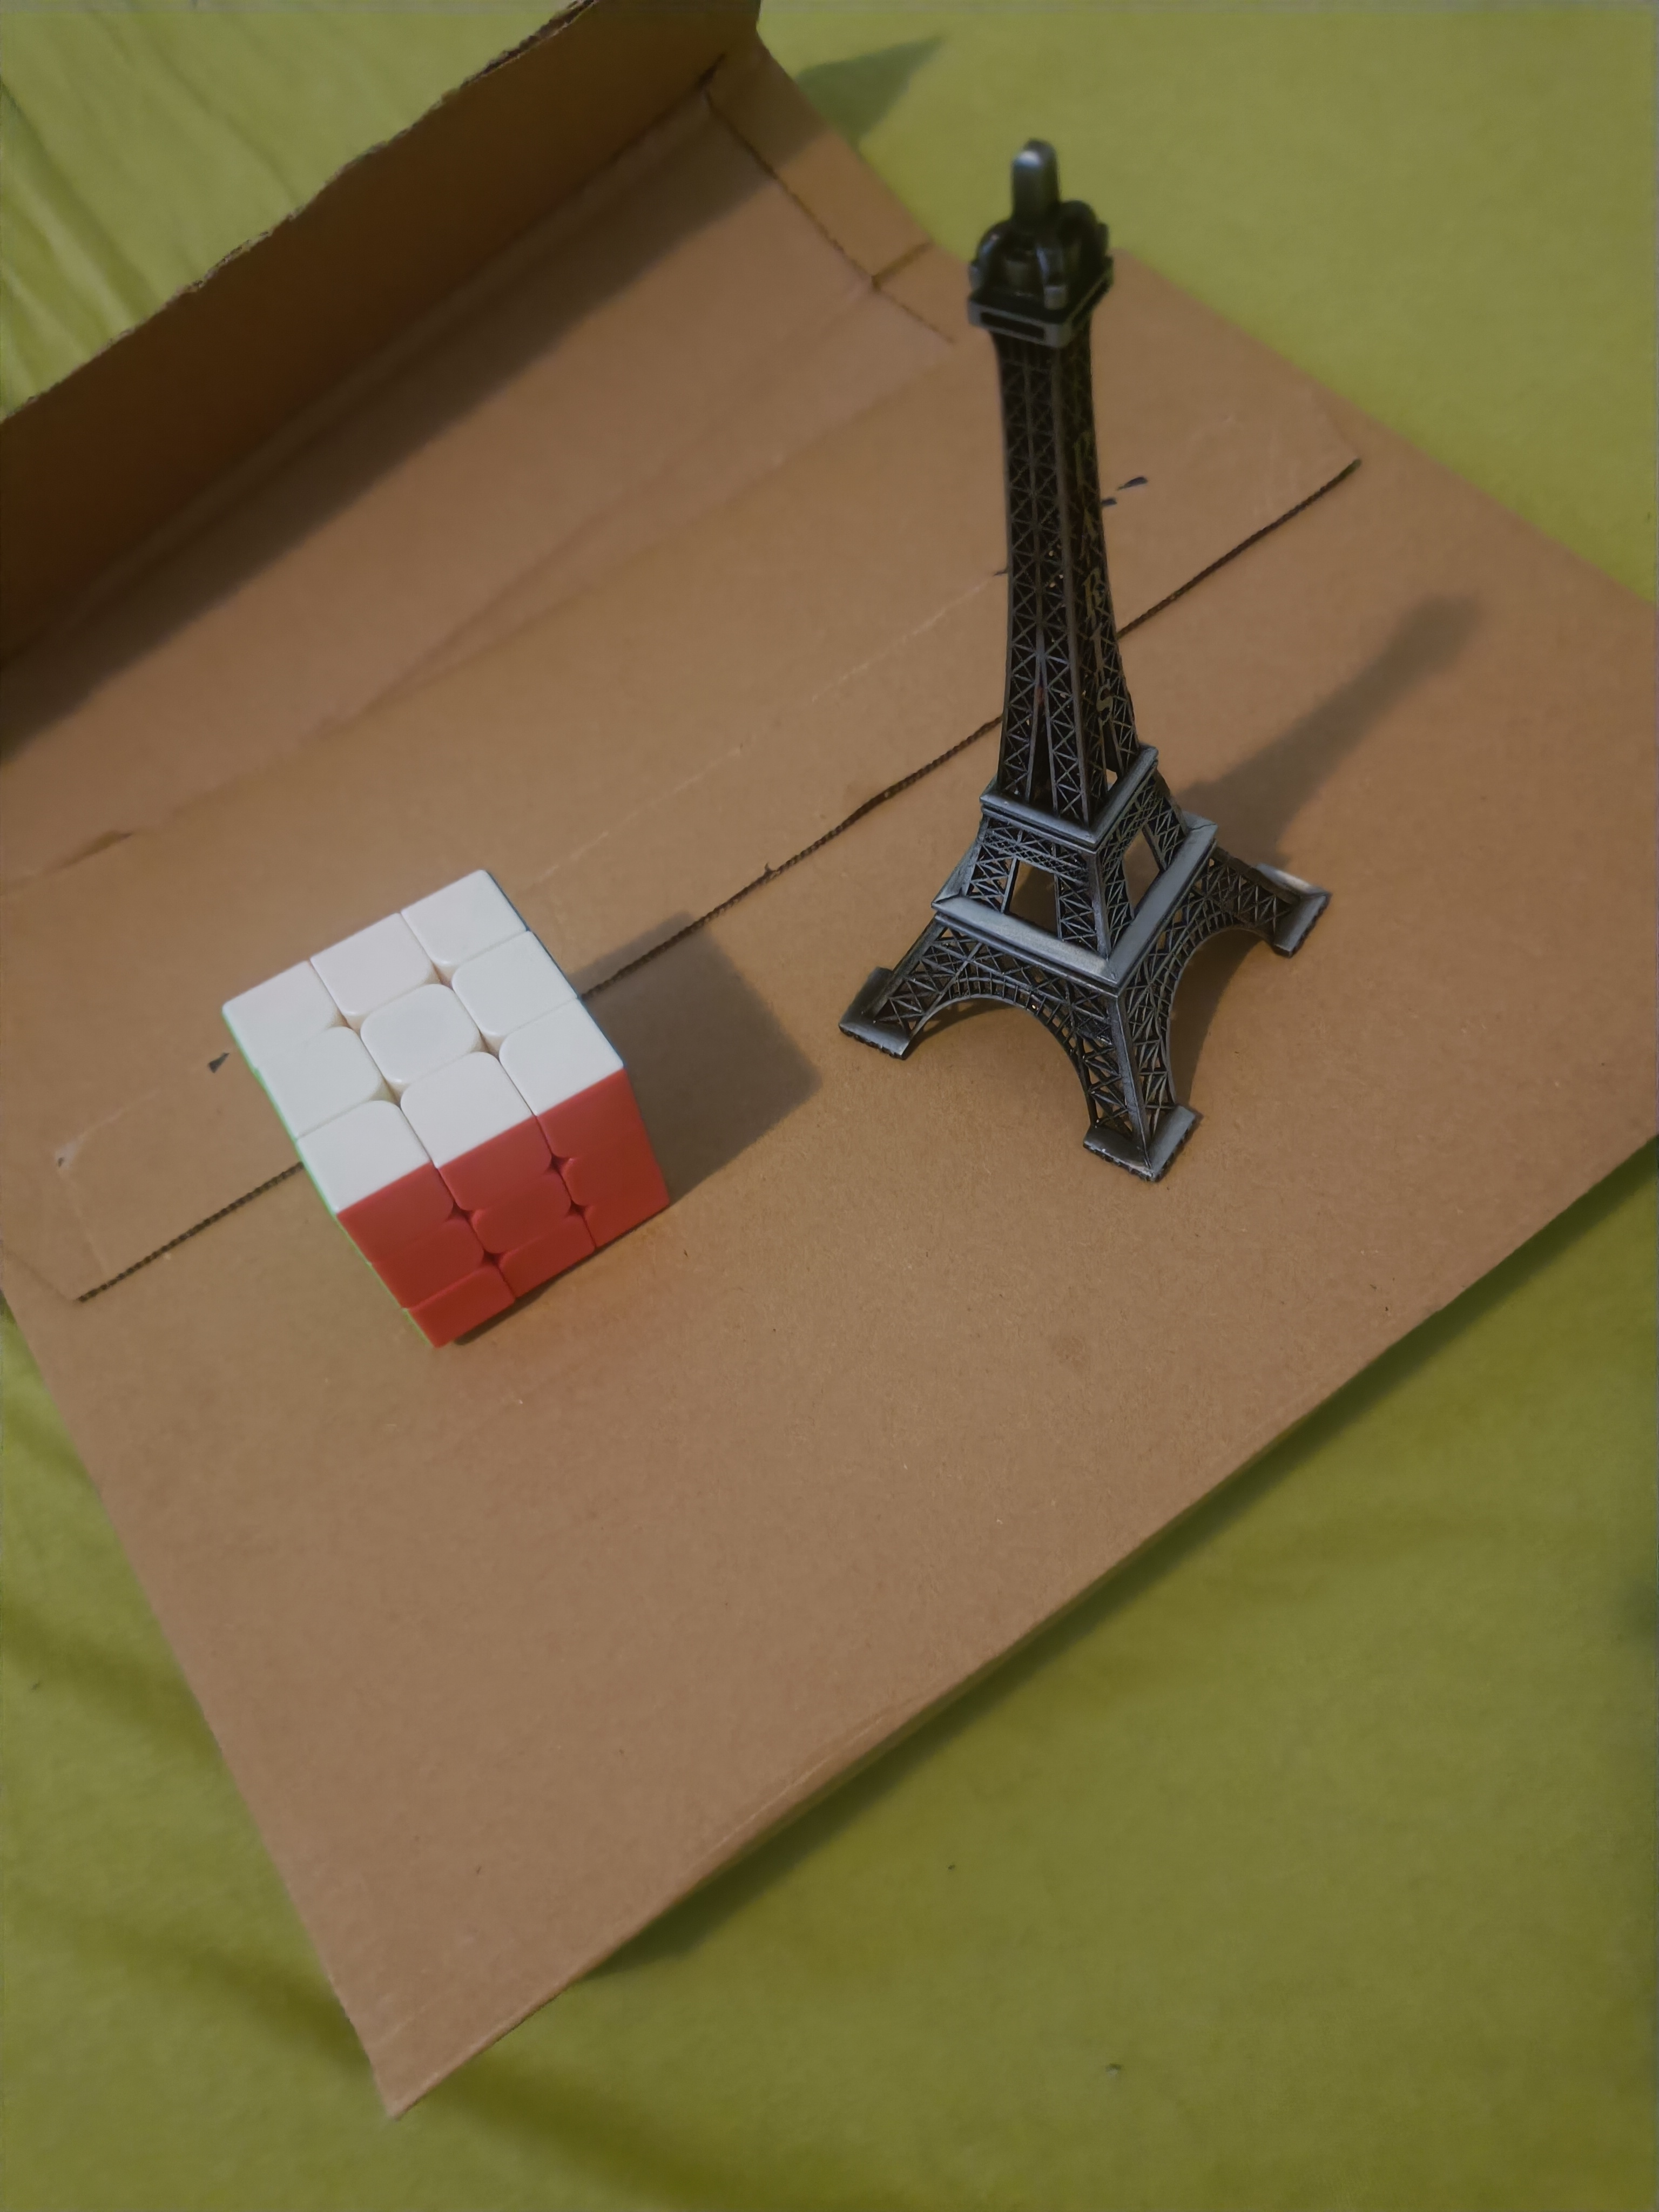Eiffel Tower: (812, 125, 1364, 1202)
Rubiks Cube: (202, 864, 671, 1353)
